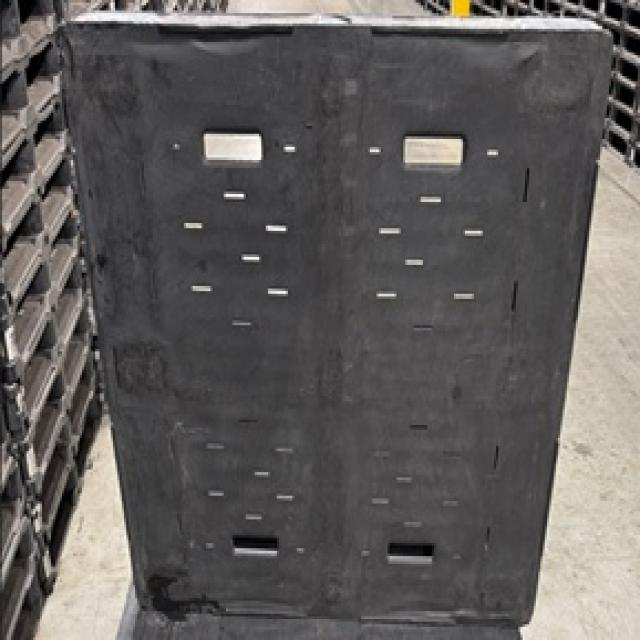igps: (41, 0, 623, 635)
